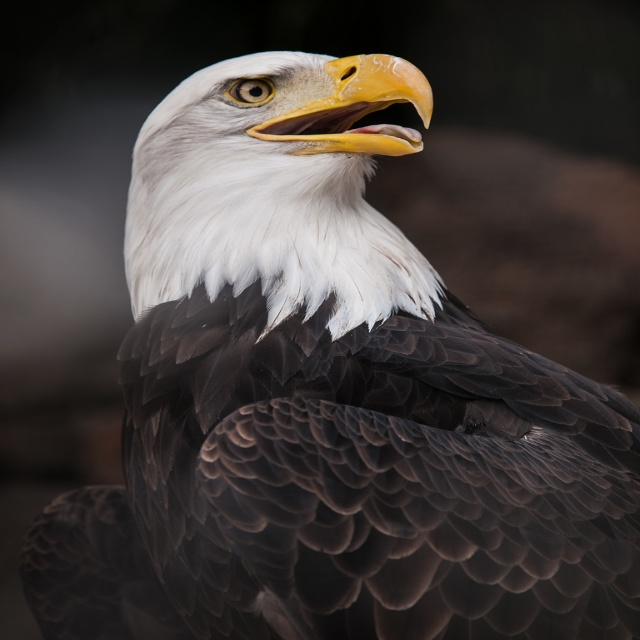Eagle: (17, 51, 639, 640)
